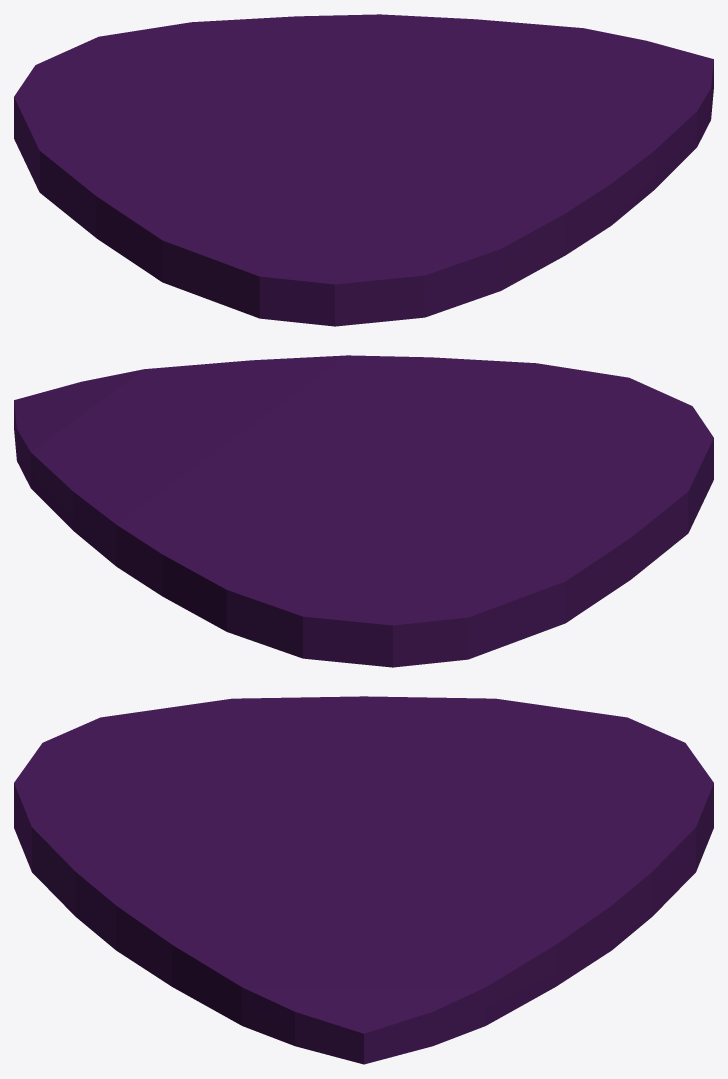
The model's file is GuitarPick.fbx.
3 views of the same model, one above another, from view 1: azimuth 30°, elevation 25°; view 2: azimuth 150°, elevation 25°; view 3: azimuth 270°, elevation 25° (orthographic). The views are drawn at different scales.
Parts seen in each view (by area): view 1: Cylinder.001; view 2: Cylinder.001; view 3: Cylinder.001.
Boxes of the visible parts, <box> form: Cylinder.001: <box>14,14,713,326</box>; Cylinder.001: <box>14,355,713,667</box>; Cylinder.001: <box>14,696,713,1064</box>.
Bounding box in the file's own units: 35.43 × 2.3 × 32.44.
